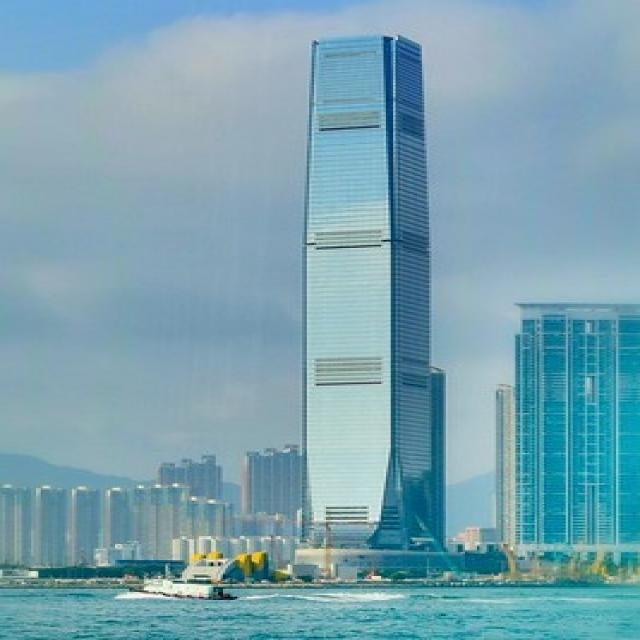Normal_building: (290, 21, 448, 582)
